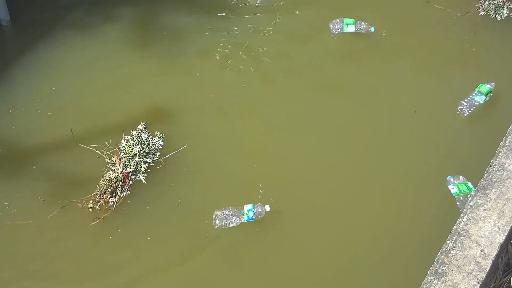plastic: (213, 198, 286, 240), (429, 164, 474, 211), (454, 81, 498, 122), (325, 13, 380, 45)
twig: (50, 105, 189, 222), (470, 0, 512, 23)
